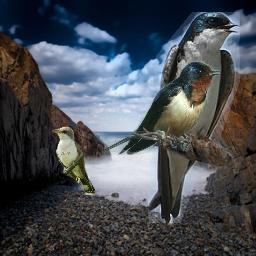Cuckoo: (52, 126, 95, 195)
Swallow: (148, 12, 240, 223), (101, 61, 220, 155)
